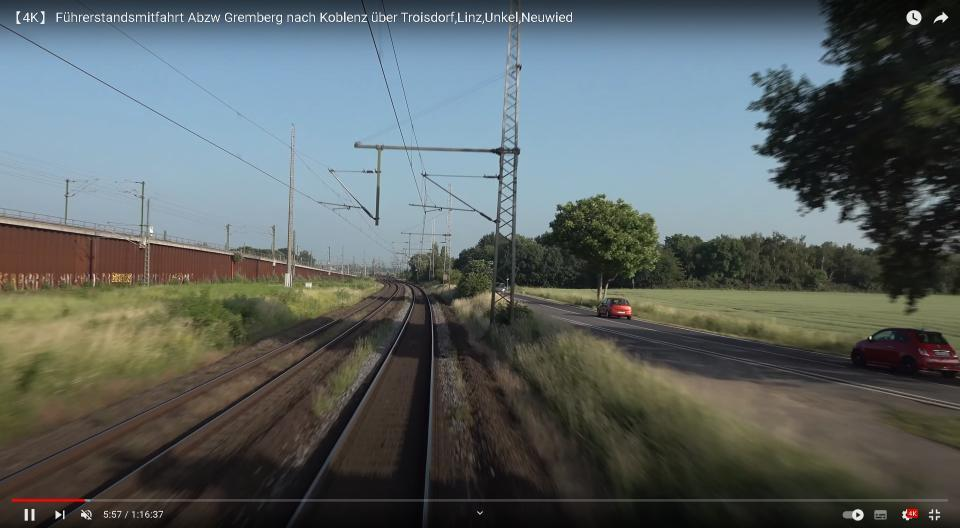Plant: (311, 318, 393, 417), (260, 308, 374, 373), (453, 402, 473, 427), (455, 369, 468, 396), (403, 298, 408, 305), (393, 314, 399, 319)
